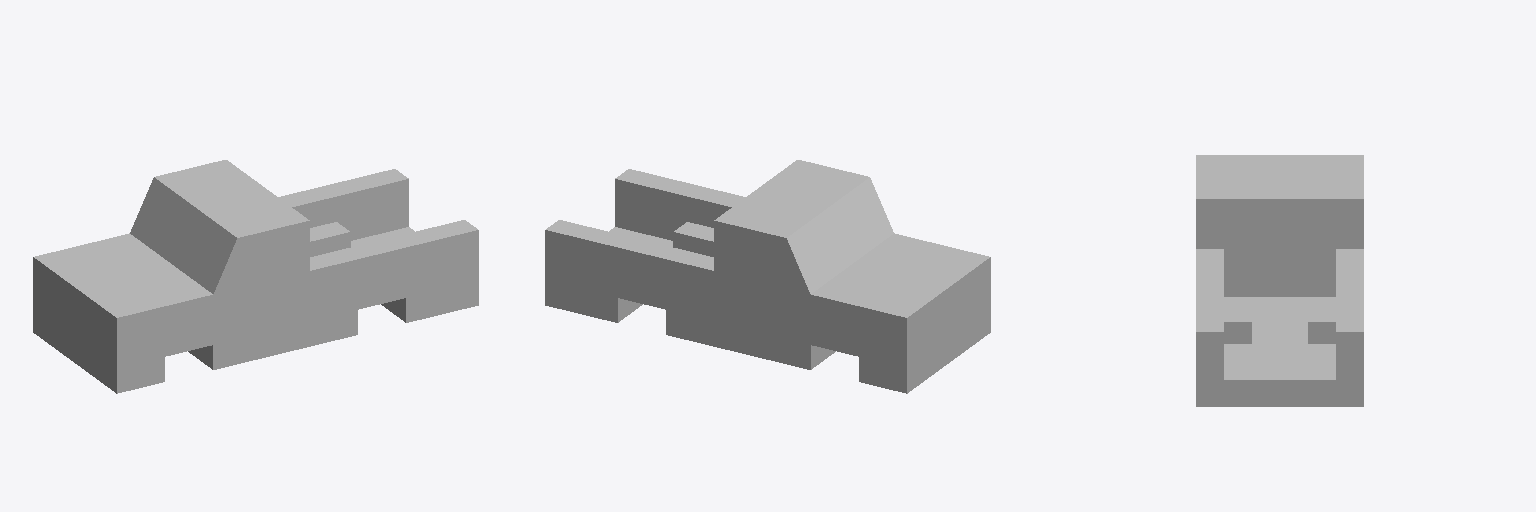
File: vehicles_ground_truck_pickup.obj
3 views of the same model, side by side, from view 1: azimuth 30°, elevation 25°; view 2: azimuth 150°, elevation 25°; view 3: azimuth 270°, elevation 25° (orthographic).
Visible parts, largest first — view 1: cuboid; view 2: cuboid; view 3: cuboid.
Part boxes in pixels (x1,y1,x2,y2): cuboid: (33, 160, 478, 393); cuboid: (545, 160, 990, 393); cuboid: (1196, 155, 1363, 406).
Size of the model in its own units: 0.9375 by 0.3125 by 0.375.